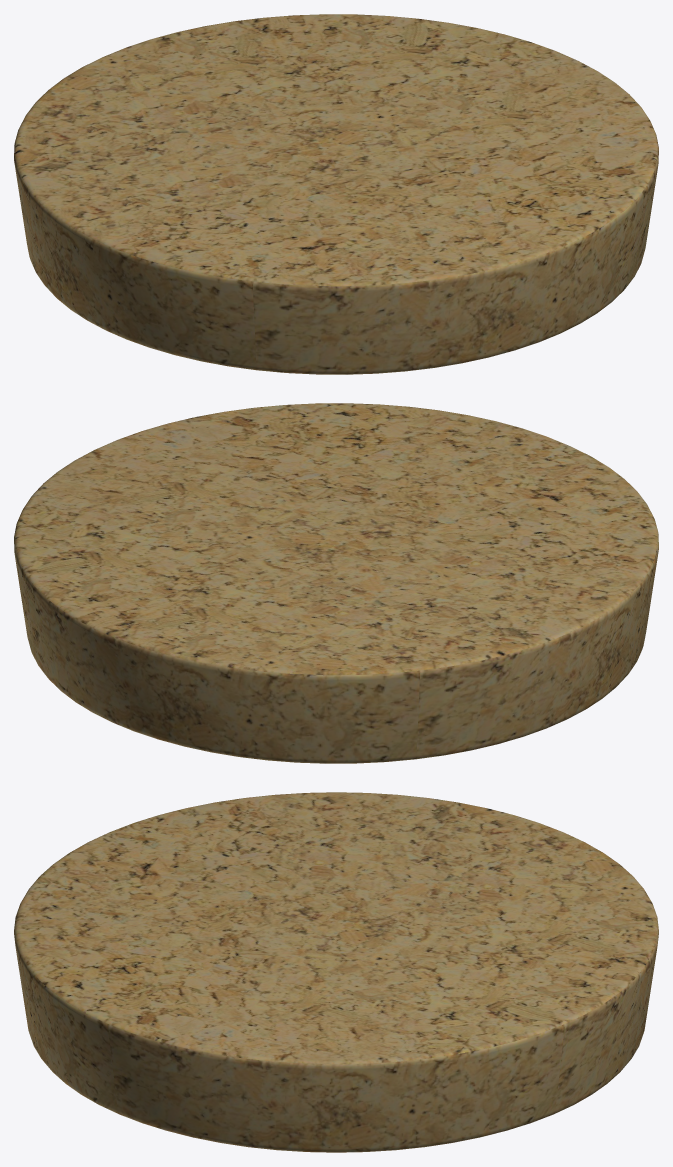
File: bouchon.obj
The picture shows the model from 3 angles, top to bottom: view 1: azimuth 30°, elevation 25°; view 2: azimuth 150°, elevation 25°; view 3: azimuth 270°, elevation 25°; orthographic projection.
Visible parts, largest first — view 1: bouchon; view 2: bouchon; view 3: bouchon.
Boxes of the visible parts, x1,y1,x2,y2 form: bouchon: (14, 14, 658, 374); bouchon: (14, 403, 658, 763); bouchon: (14, 792, 658, 1152).
Size of the model in its own units: 1286 by 215 by 1286.
